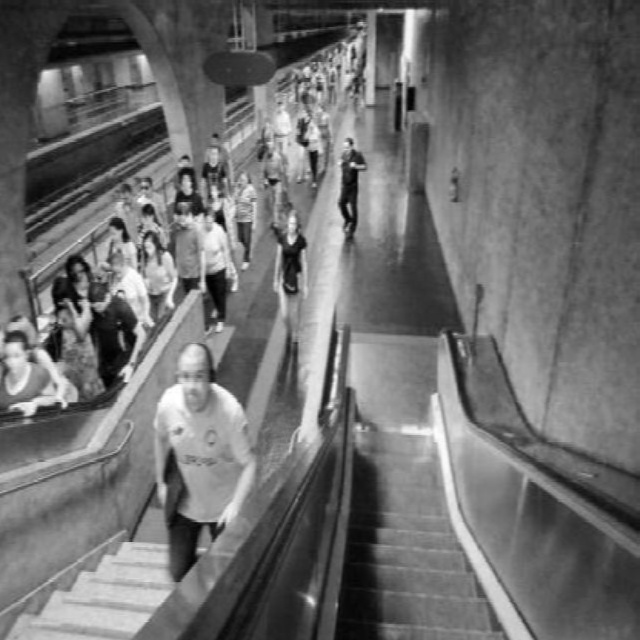stair: (335, 420, 515, 640), (0, 537, 213, 640)
